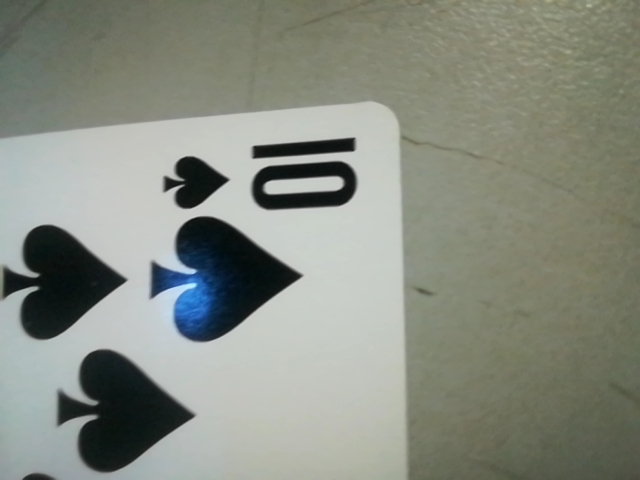ht 10: (162, 131, 370, 224)
